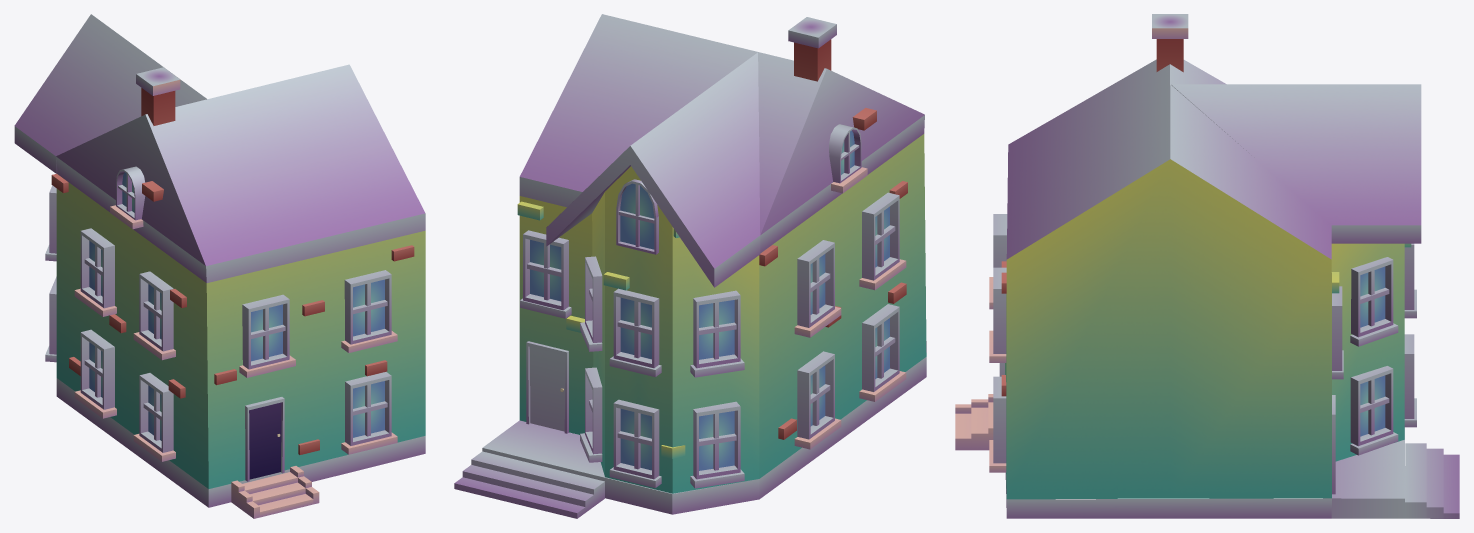
File: SM_House_R_01.fbx
3 views of the same model, side by side, from view 1: azimuth 30°, elevation 25°; view 2: azimuth 150°, elevation 25°; view 3: azimuth 270°, elevation 25° (orthographic). The views are drawn at different scales.
Parts seen in each view (by area): view 1: SM_House_R_01; view 2: SM_House_R_01; view 3: SM_House_R_01.
Boxes of the visible parts, bbox=[...] form: SM_House_R_01: bbox=[14, 14, 425, 518]; SM_House_R_01: bbox=[454, 14, 926, 518]; SM_House_R_01: bbox=[955, 14, 1459, 518].
Size of the model in its own units: 7 by 12.22 by 10.61.
